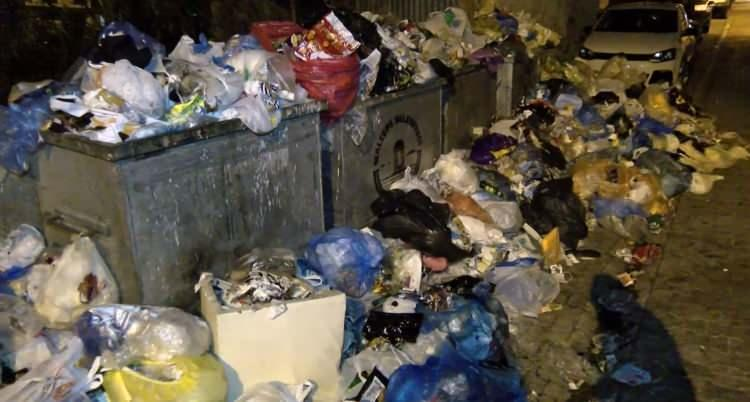Container: (20, 103, 335, 304), (325, 80, 451, 221), (436, 66, 502, 151), (499, 55, 524, 114)
Garbage: (17, 20, 301, 125), (343, 270, 527, 402), (195, 277, 344, 402), (276, 7, 429, 94), (95, 23, 232, 98), (92, 304, 220, 375), (383, 0, 518, 66), (32, 240, 119, 327), (275, 23, 366, 106), (578, 142, 667, 223), (374, 211, 479, 276), (75, 364, 240, 402), (72, 53, 166, 117), (304, 233, 394, 295), (483, 255, 568, 320), (626, 142, 722, 197), (0, 96, 53, 179), (538, 187, 595, 251), (447, 205, 525, 251), (379, 187, 475, 224), (223, 271, 319, 303), (234, 90, 279, 144), (0, 217, 32, 288), (420, 3, 476, 43), (439, 157, 489, 193), (401, 173, 452, 204), (546, 57, 589, 92), (567, 87, 618, 116), (428, 39, 469, 69), (650, 84, 691, 113), (523, 16, 556, 50), (717, 144, 748, 171), (593, 57, 627, 77), (534, 117, 562, 138)
